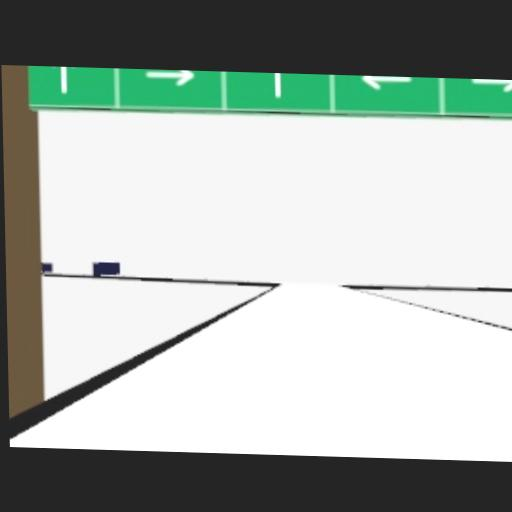Left: (359, 75, 408, 88)
Right: (144, 69, 193, 87)
Straight: (48, 66, 77, 93), (264, 72, 287, 98), (467, 78, 512, 91)
